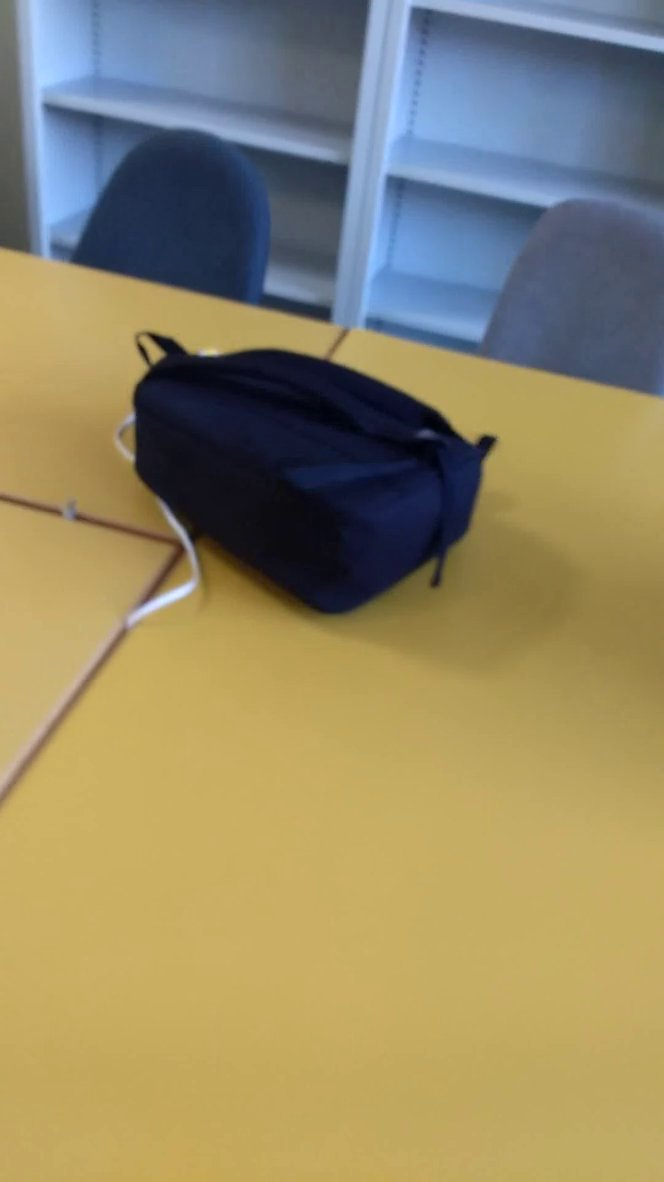bag: (103, 322, 506, 630)
chair: (58, 111, 290, 352), (468, 153, 664, 422)
